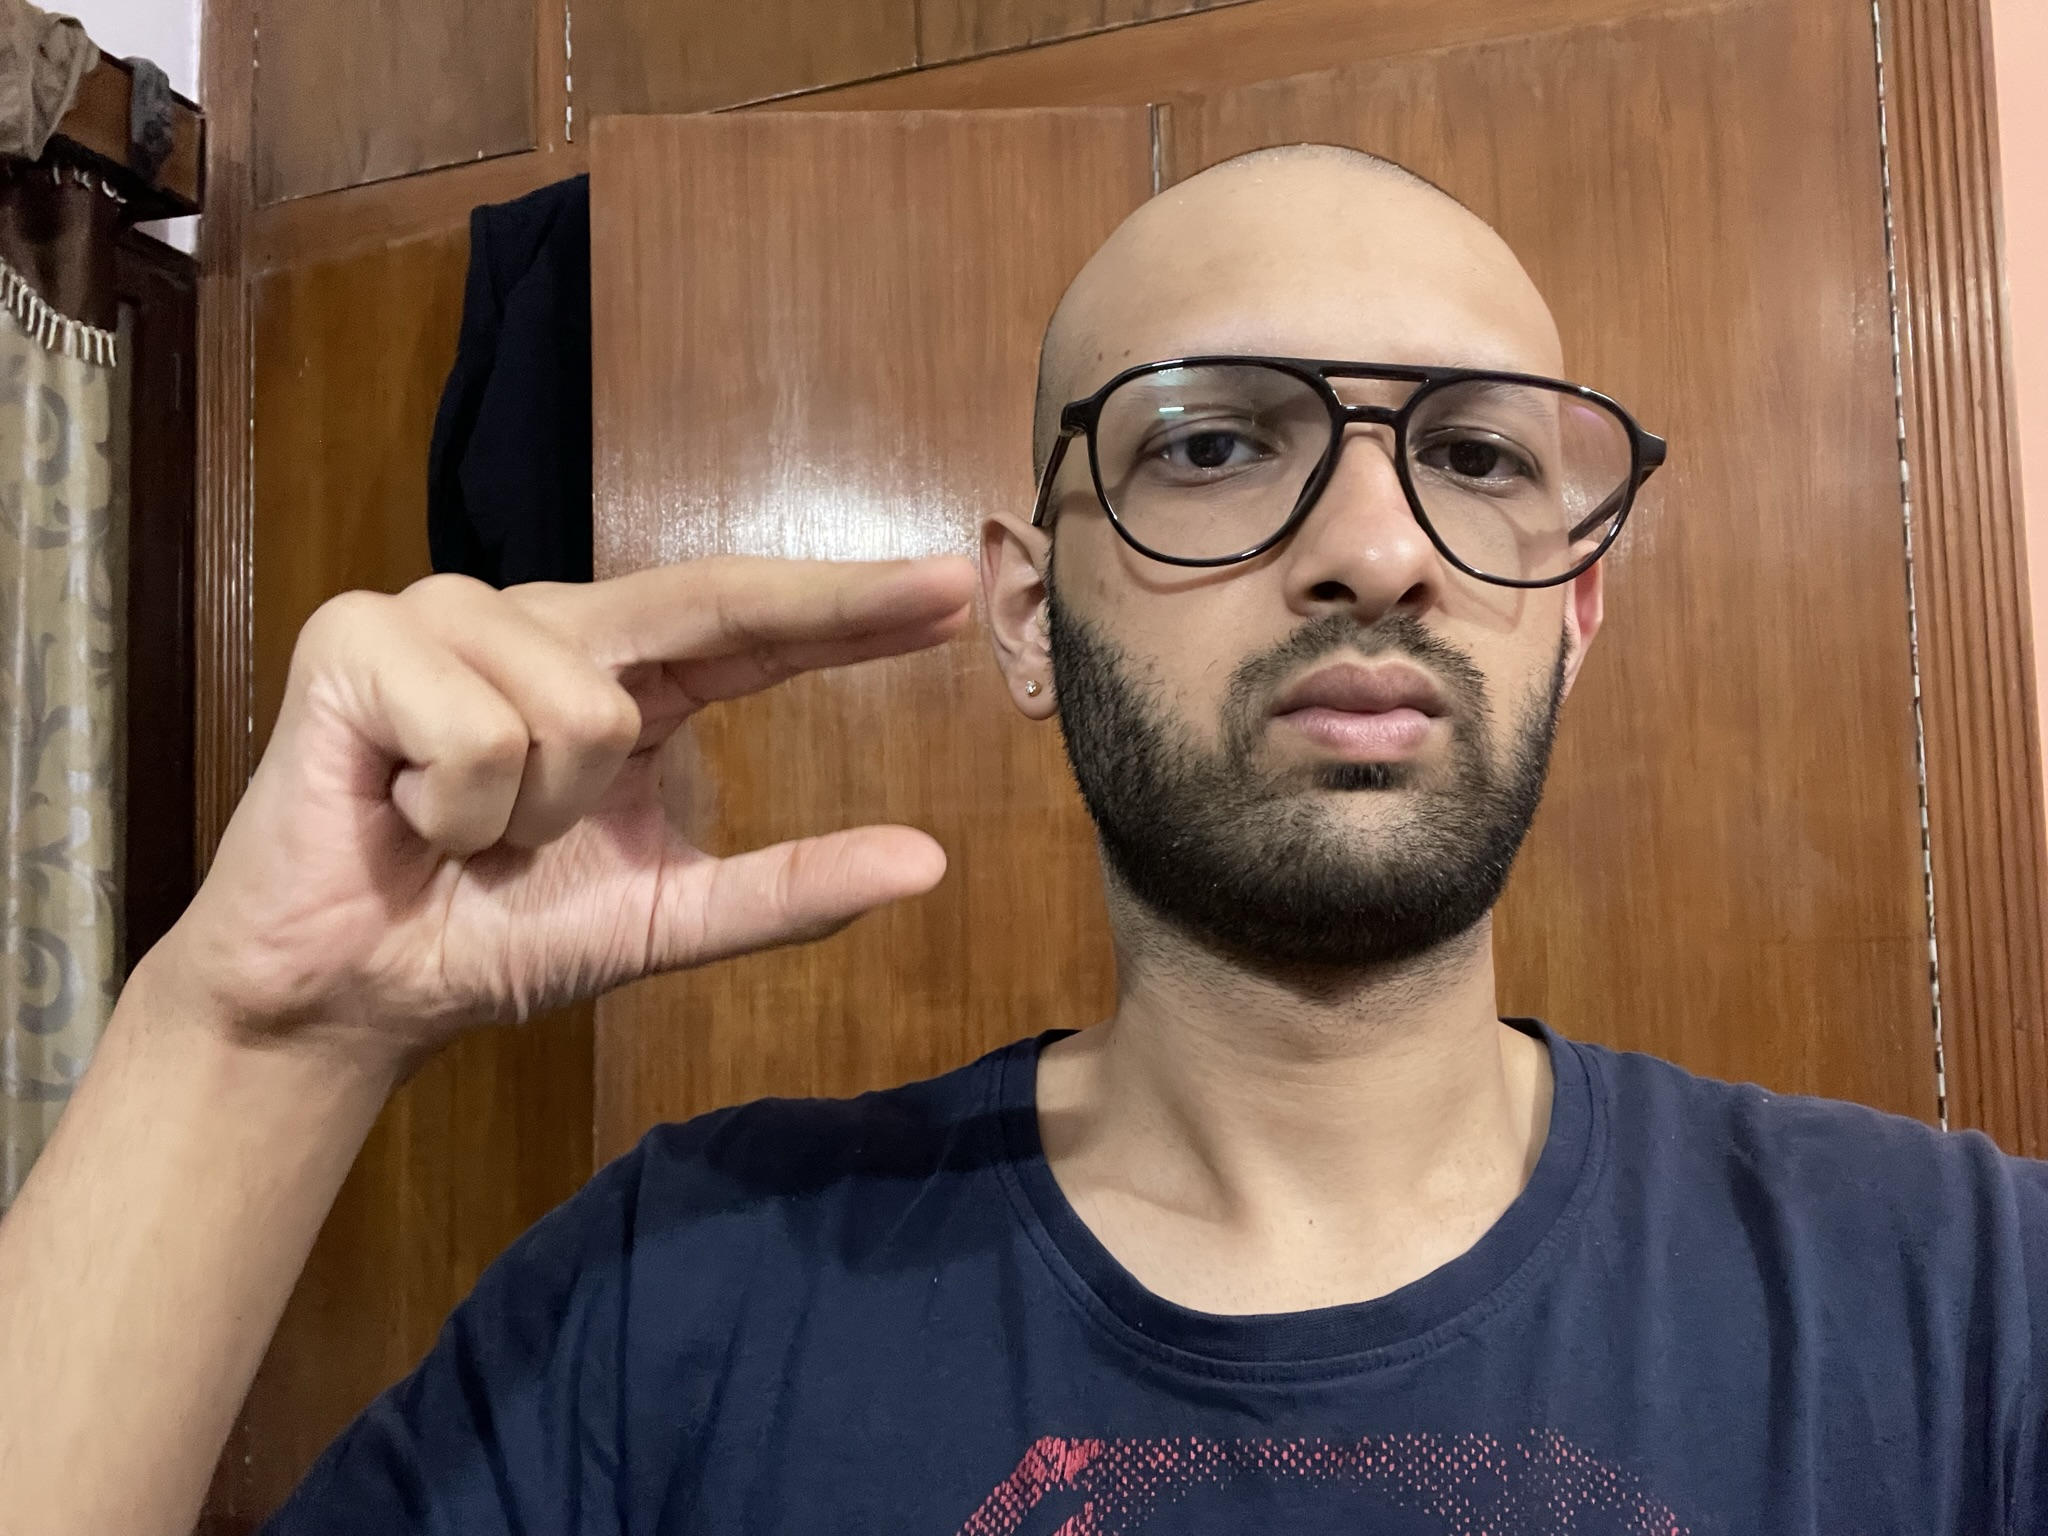No: (145, 545, 977, 1044)
